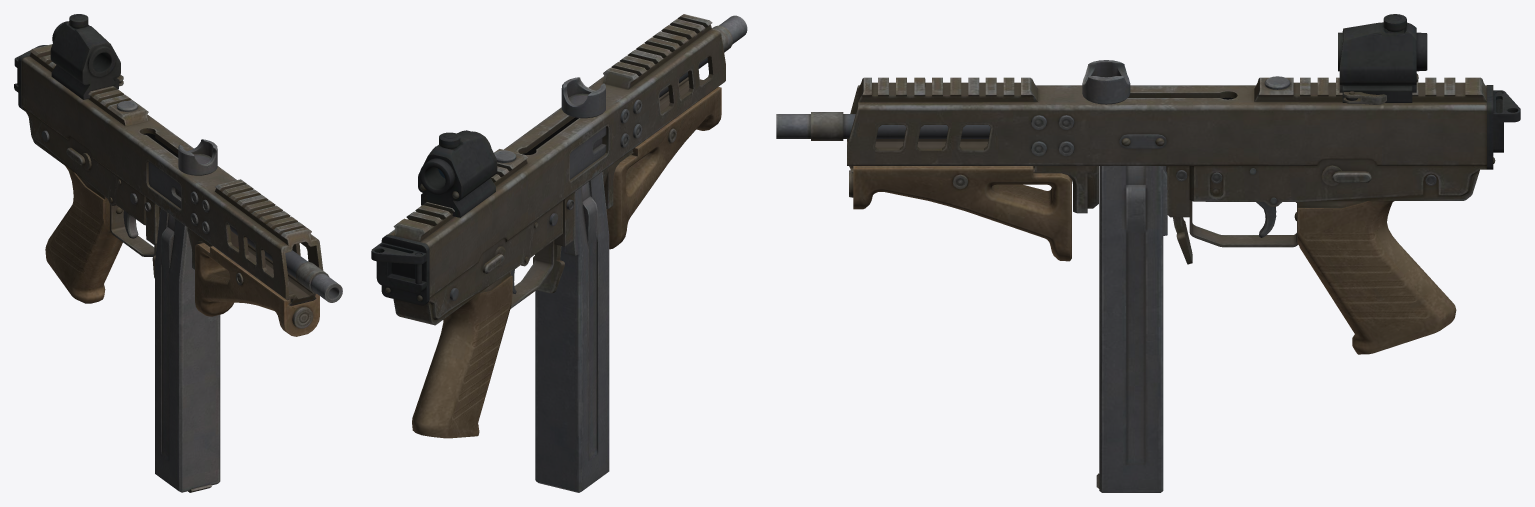
The model's file is smg.glb.
The picture shows the model from 3 angles, left to right: view 1: azimuth 30°, elevation 25°; view 2: azimuth 150°, elevation 25°; view 3: azimuth 270°, elevation 25°; orthographic projection. The views are drawn at different scales.
Visible parts, largest first — view 1: base, clip, grip, scope, bolt; view 2: base, clip, grip, scope, bolt, release; view 3: base, clip, grip, scope, bolt.
Part boxes in pixels (x1,y1,x2,y2): base: [14, 44, 342, 328]; clip: [155, 208, 220, 492]; grip: [195, 243, 319, 336]; scope: [50, 14, 123, 99]; bolt: [148, 139, 217, 208]; base: [371, 14, 747, 438]; clip: [535, 172, 609, 492]; grip: [606, 87, 721, 249]; scope: [418, 130, 497, 217]; bolt: [561, 77, 606, 179]; release: [533, 244, 564, 293]; base: [776, 76, 1520, 354]; clip: [1096, 166, 1167, 492]; grip: [853, 166, 1071, 261]; scope: [1338, 14, 1427, 104]; bolt: [1082, 60, 1130, 104].
Size of the model in its own units: 4.73 by 34.6 by 50.
Materials: 2 (1 with a texture image).
